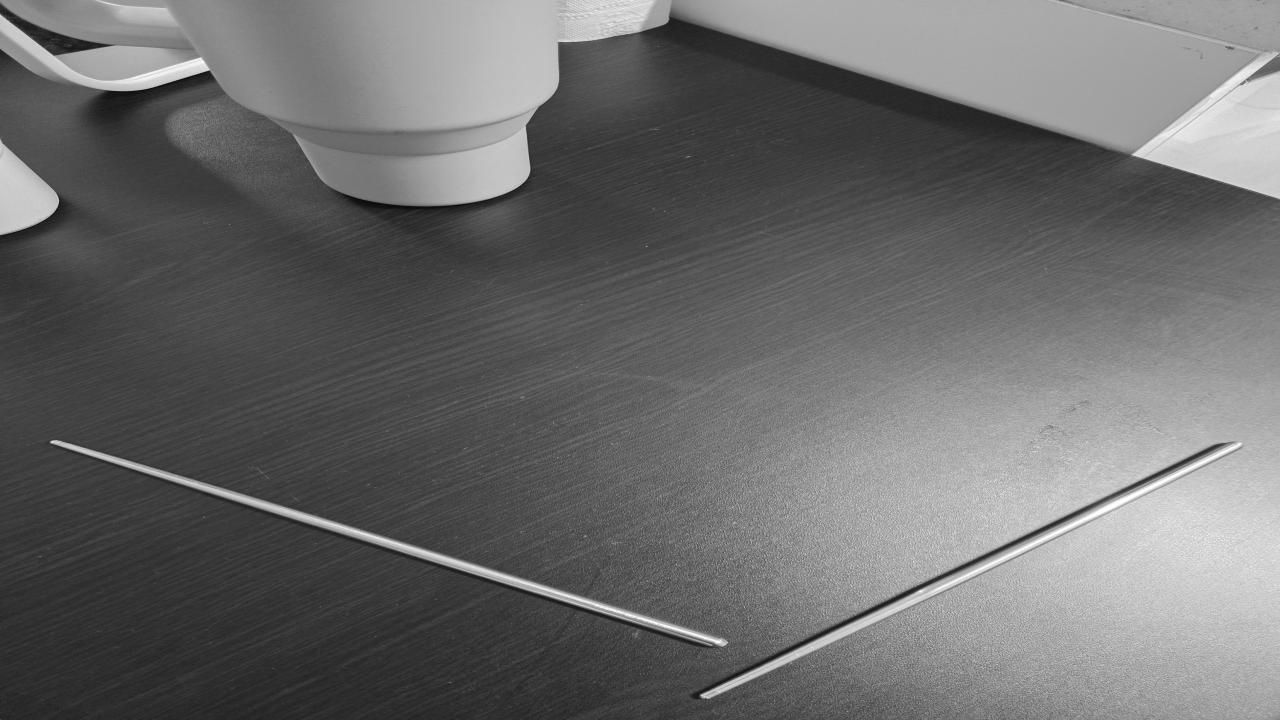chopstick: (689, 434, 1252, 702), (40, 434, 734, 650)
